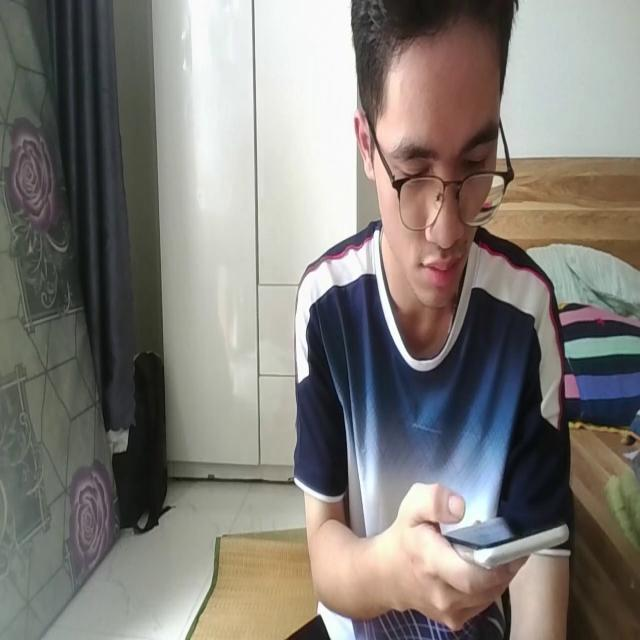phone: (434, 504, 569, 576)
student: (294, 0, 569, 640)
